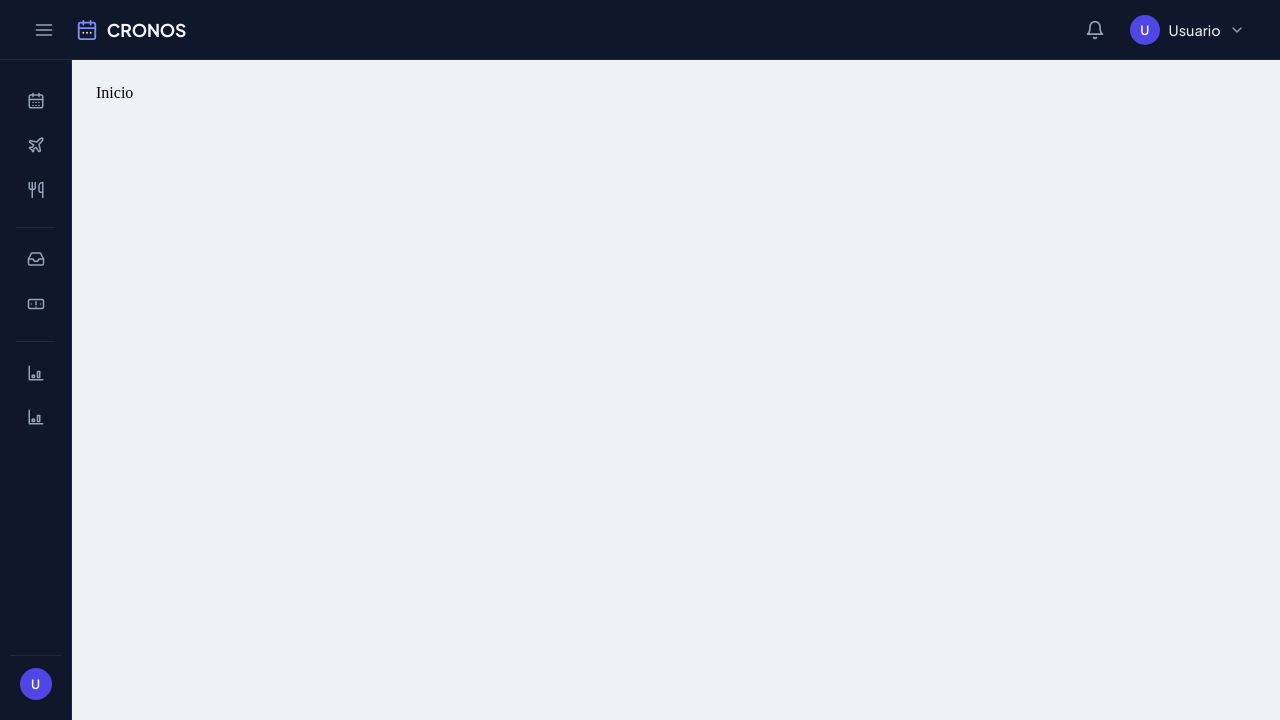
Layout Mis tareas navigation › shows the GA category labels in the mobile navigation panel
Click the button named "Abrir menú".
click(44, 30)  # box [24,10,64,50]
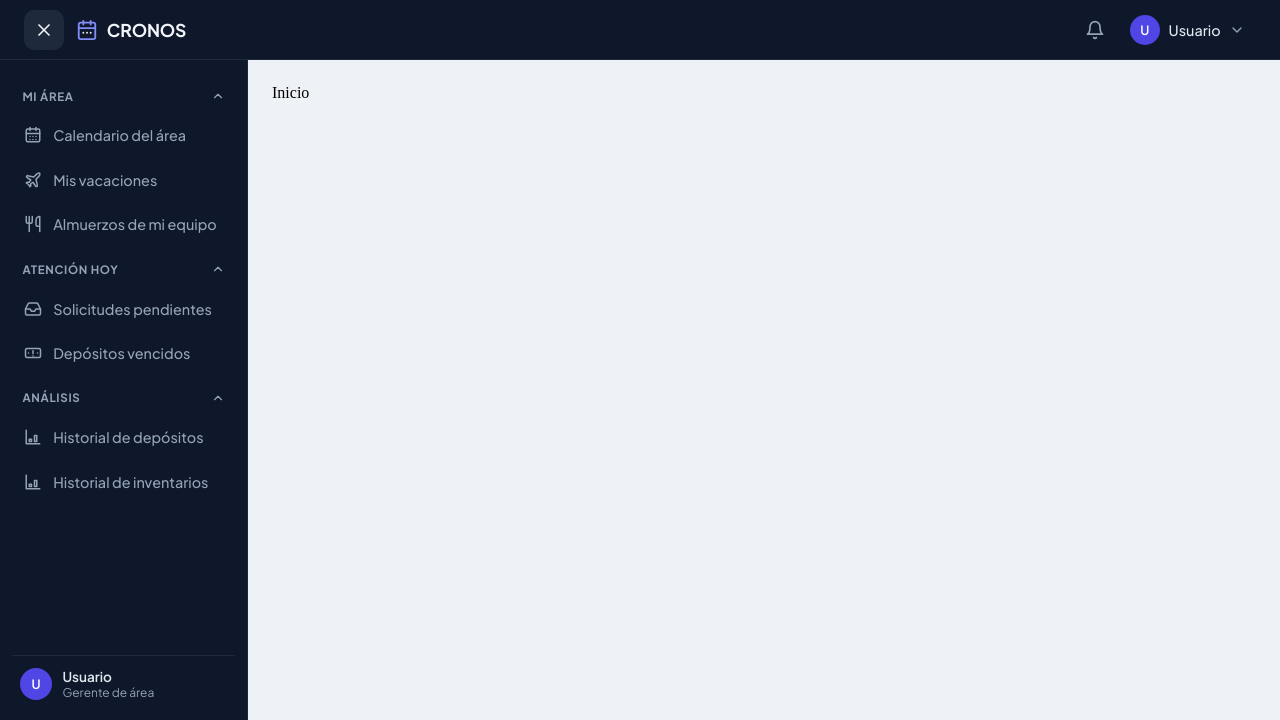
Now the button "Mi área" is shown, box [12,80,235,112]
Now the button "Atención hoy" is shown, box [12,253,235,285]
